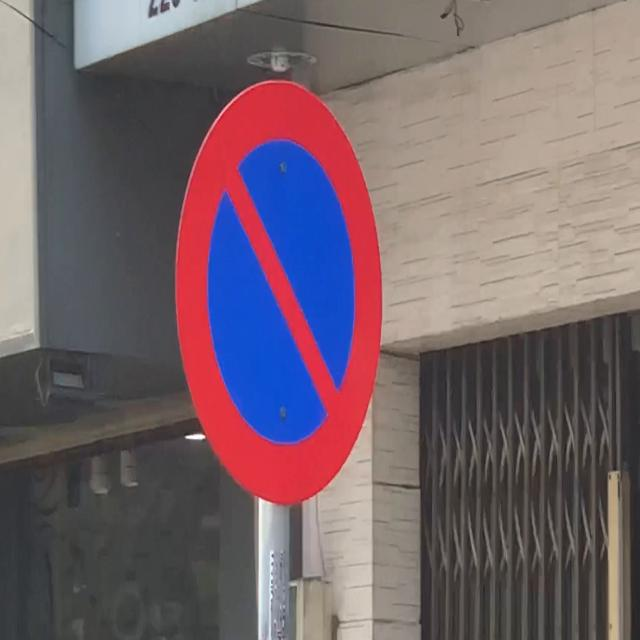Cam do: (174, 74, 383, 507)
